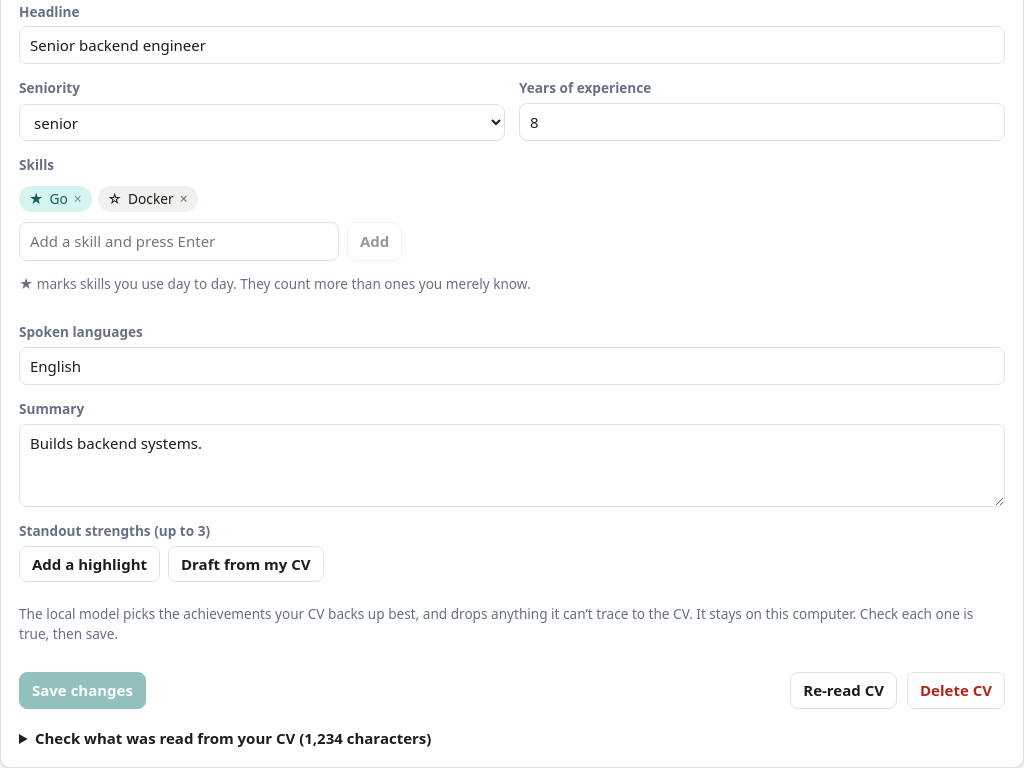
Test case: Profile page: highlights › explains when the local model is not available
(page scrolled)
Click the button "Draft from my CV" at point(246, 564), box [168,546,324,582]
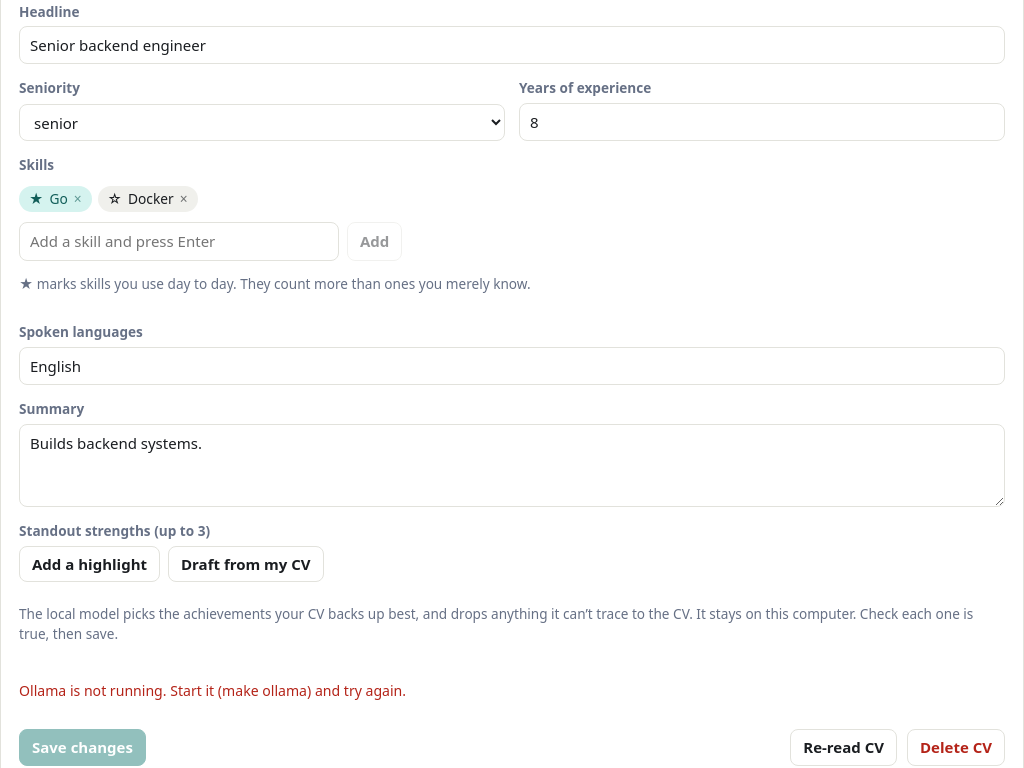
Expected: the message shows "Ollama is not running", [19,681,406,700]
